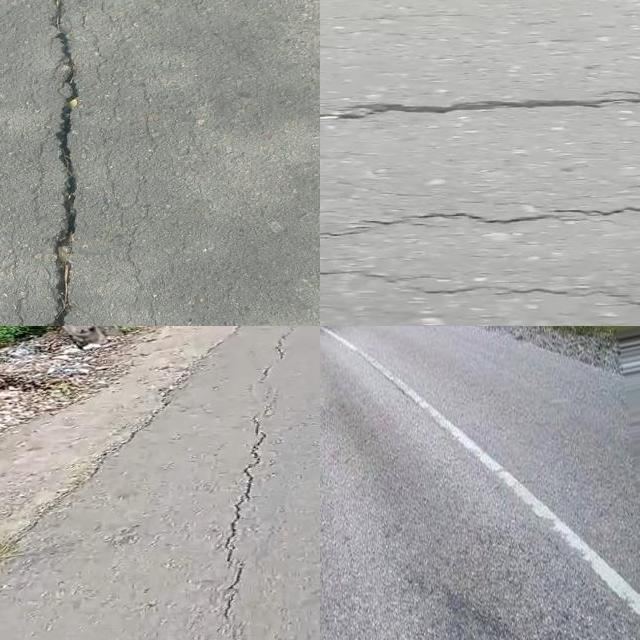Melintang: (320, 190, 640, 250), (320, 78, 640, 136)
Memanjang: (202, 327, 307, 639), (21, 0, 97, 326)
